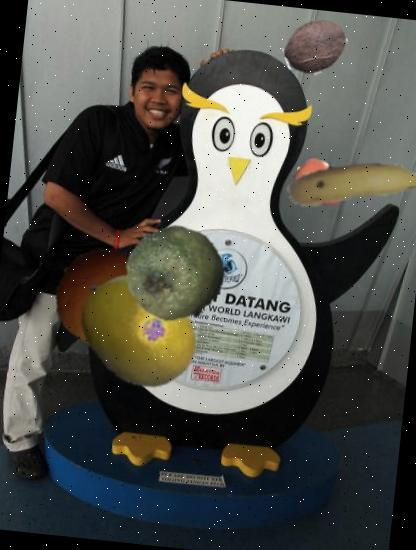Banana: (280, 108, 416, 257)
Cocos: (279, 12, 352, 84)
Kaki: (289, 154, 352, 216)
Limes: (121, 220, 230, 330)
Maracuja: (69, 262, 209, 402)
Orange: (50, 241, 165, 356)
